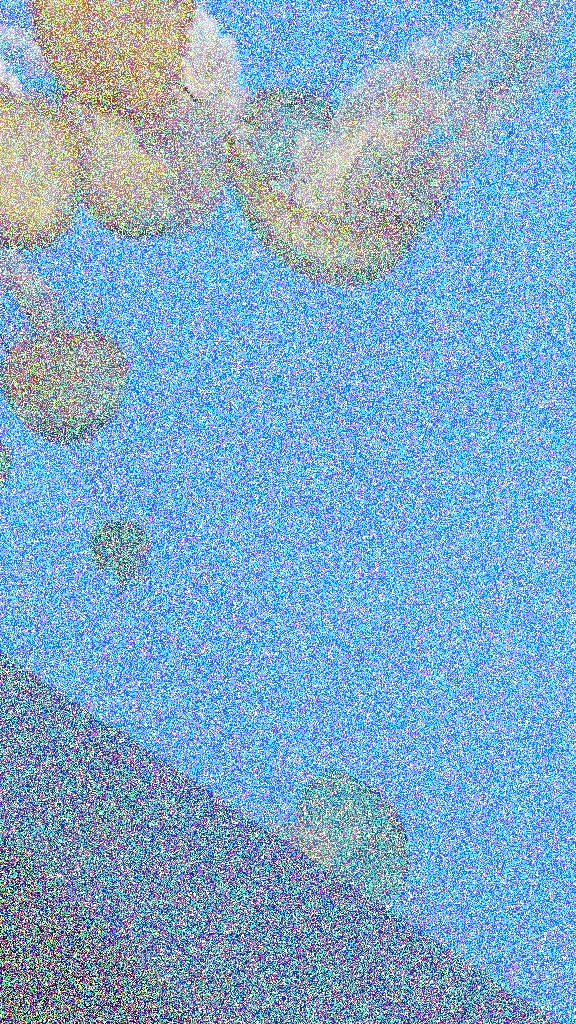jellyfish: (29, 0, 203, 120), (1, 446, 13, 488)
stingray: (229, 84, 457, 292), (57, 6, 252, 234), (1, 319, 133, 447), (294, 768, 412, 904), (1, 80, 92, 252), (87, 516, 154, 574), (1, 430, 13, 490)
